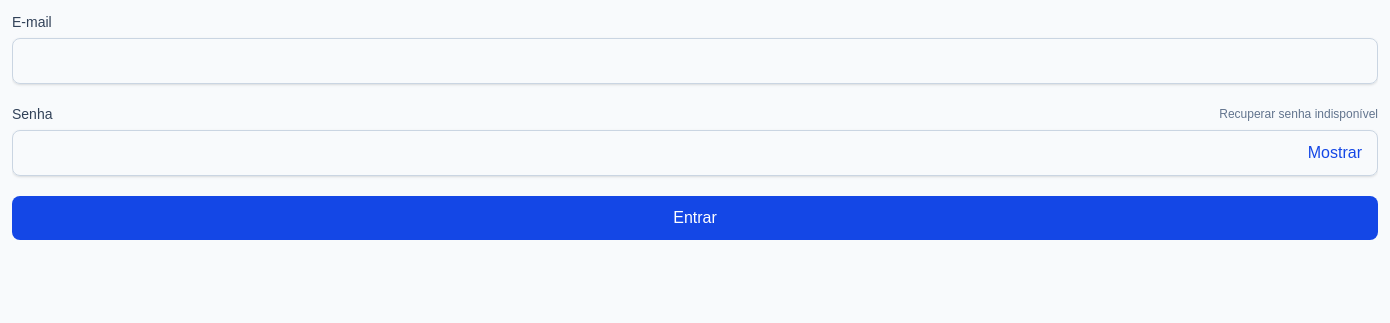
Test case: LoginForm › exibe mensagem segura para credenciais recusadas
Type "admin@erp.local" into the field labelled "E-mail" at [695, 61], box [12, 38, 1378, 84]
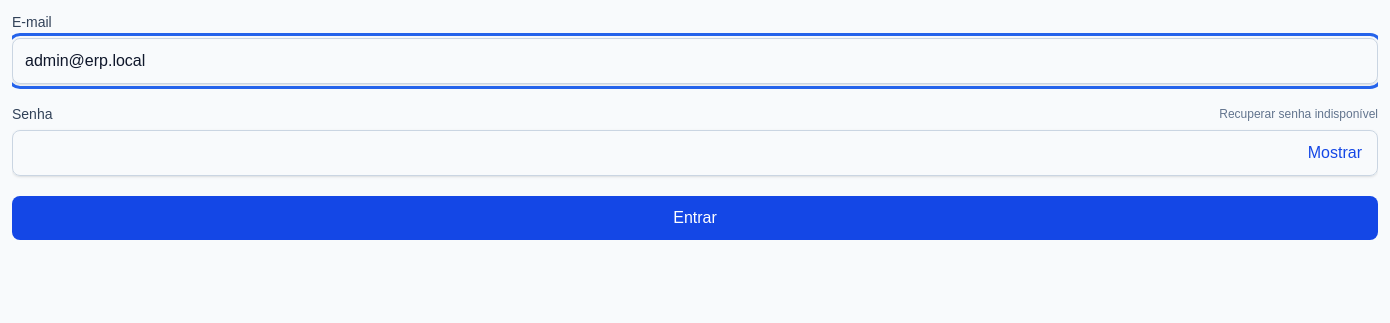
Type "senha-segura-com-12-caracteres" into the password field labelled "Senha" at [695, 153], box [12, 130, 1378, 176]
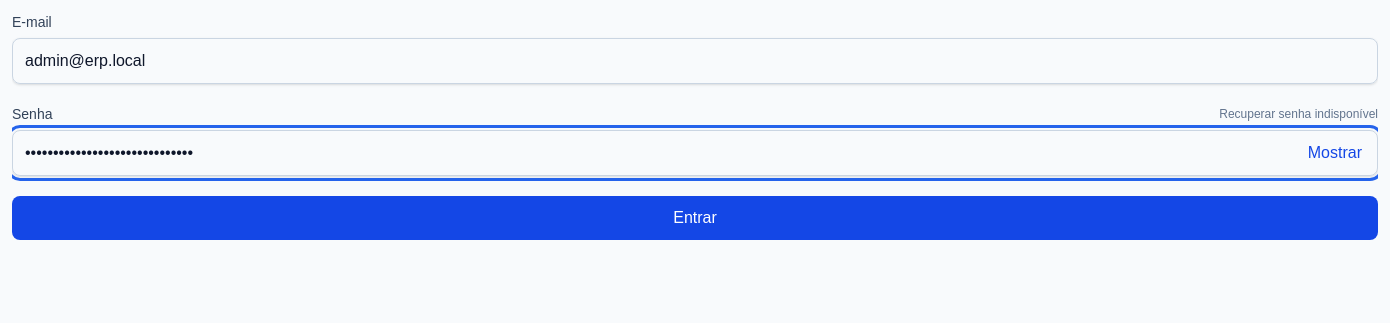
Click the button "Entrar" at [695, 218], box [12, 196, 1378, 240]
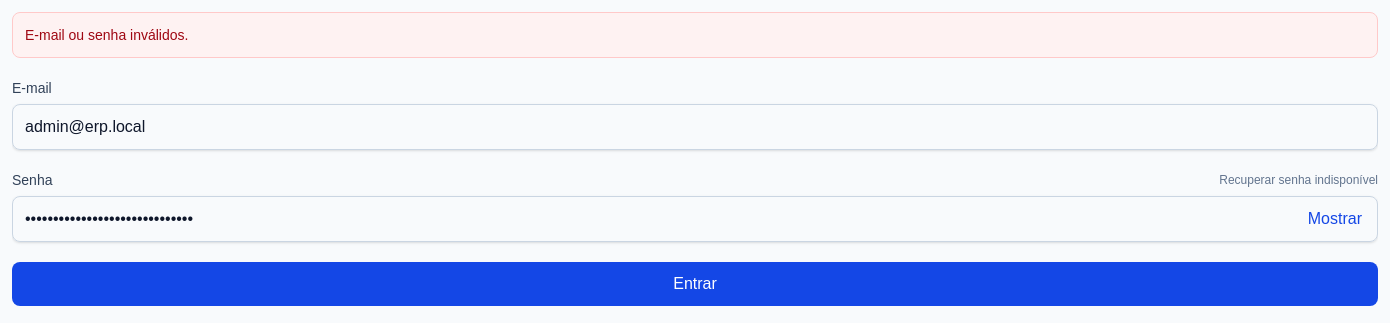
Expected: the message reads "E-mail ou senha inválidos.", [25, 27, 188, 43]
